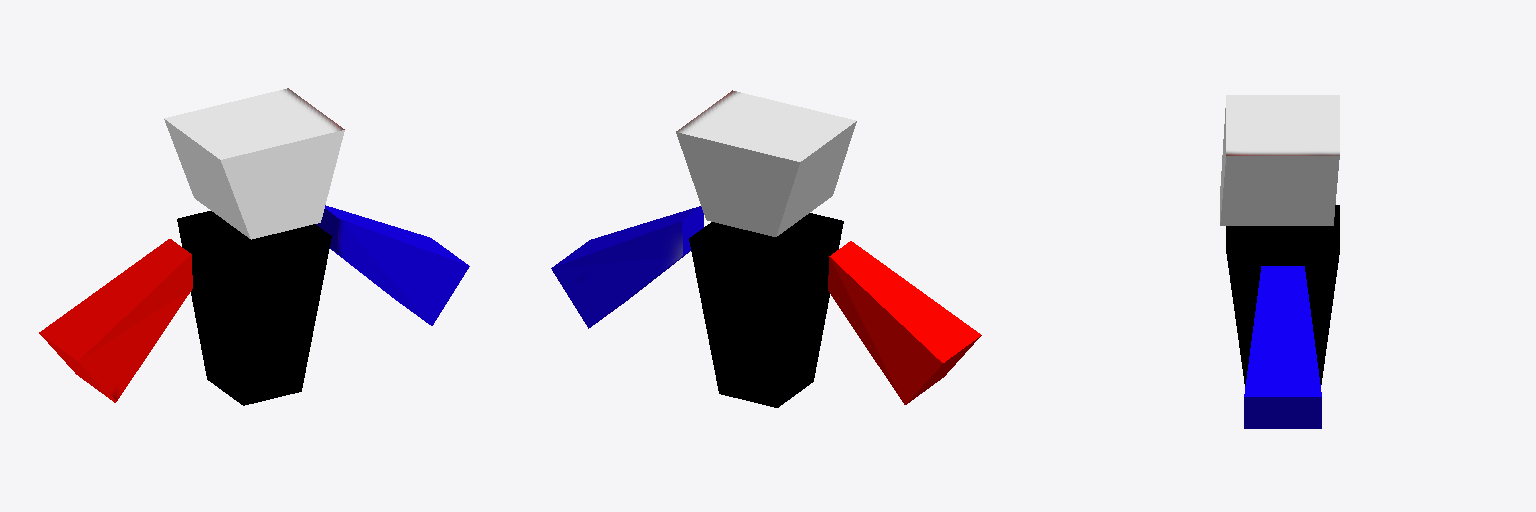
The picture shows the model from 3 angles: view 1: azimuth 30°, elevation 25°; view 2: azimuth 150°, elevation 25°; view 3: azimuth 270°, elevation 25°; orthographic projection.
Parts seen in each view (by area): view 1: 立方体.001; view 2: 立方体.001; view 3: 立方体.001.
Part boxes in pixels (bbox=[...]): 立方体.001: bbox=[39, 88, 469, 405]; 立方体.001: bbox=[551, 90, 981, 407]; 立方体.001: bbox=[1220, 95, 1339, 428].
Size of the model in its own units: 7.97 by 5.08 by 2.11.
Materials: 1 (1 with a texture image).